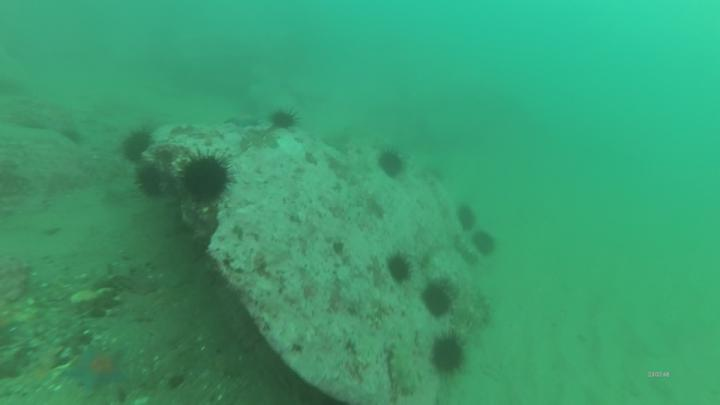echinus: (181, 160, 229, 202), (433, 338, 465, 374), (423, 287, 453, 318), (121, 137, 151, 163), (139, 173, 168, 199), (378, 149, 404, 177), (389, 257, 413, 283), (477, 233, 498, 258), (459, 208, 476, 230), (274, 113, 297, 128)
starfish: (63, 350, 129, 390)
